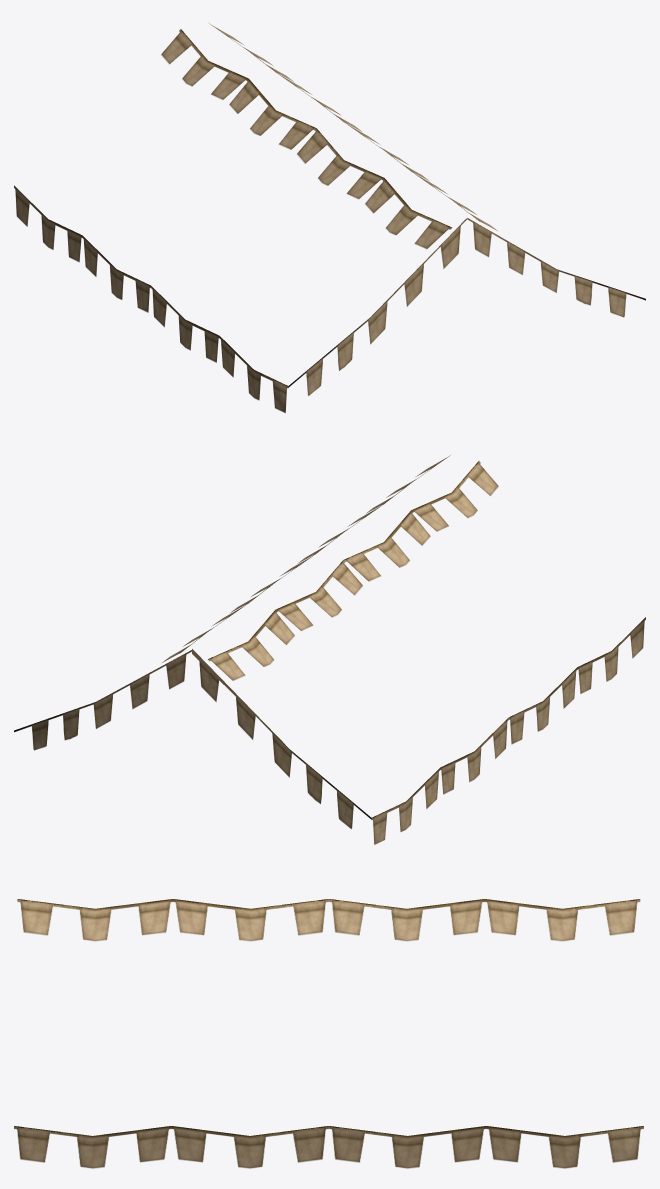
File: rome_tent_c_flaps.glb
3 renders of one model, top to bottom at view 1: azimuth 30°, elevation 25°; view 2: azimuth 150°, elevation 25°; view 3: azimuth 270°, elevation 25°, orthographic. The views are drawn at different scales.
Visible parts, largest first — view 1: rome_sb_tent_transp002; view 2: rome_sb_tent_transp002; view 3: rome_sb_tent_transp002.
Boxes of the visible parts, x1,y1,x2,y2 form: rome_sb_tent_transp002: (14, 23, 645, 413); rome_sb_tent_transp002: (14, 455, 645, 844); rome_sb_tent_transp002: (14, 899, 643, 1168).
Bounding box in the file's own units: 5.38 × 2.43 × 7.18.
1 material, 1 textured.
